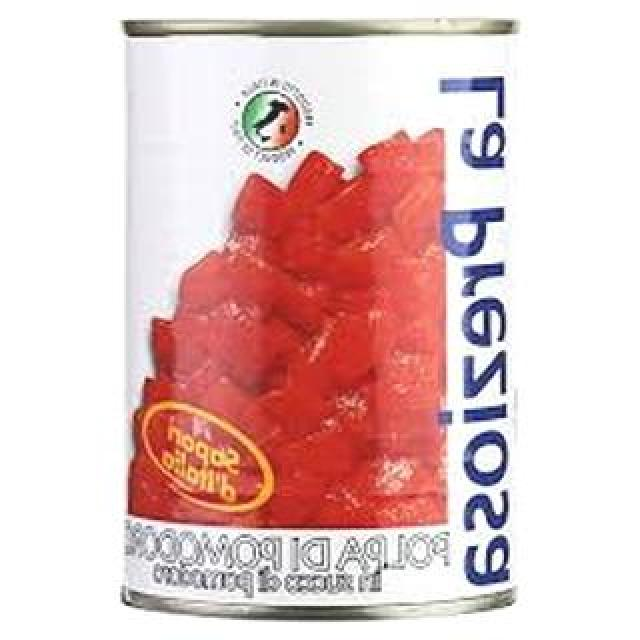Can: (94, 18, 534, 632)
